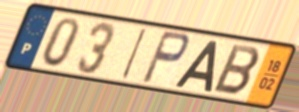0: (40, 16, 79, 68)
3: (76, 19, 116, 77)
A: (172, 39, 219, 93)
B: (210, 42, 263, 98)
I: (118, 26, 150, 82)
P: (139, 28, 193, 86)
